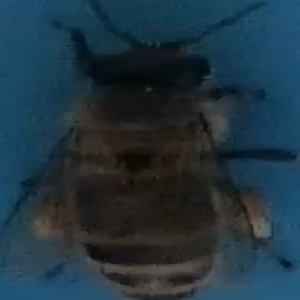bee: (18, 6, 298, 300)
